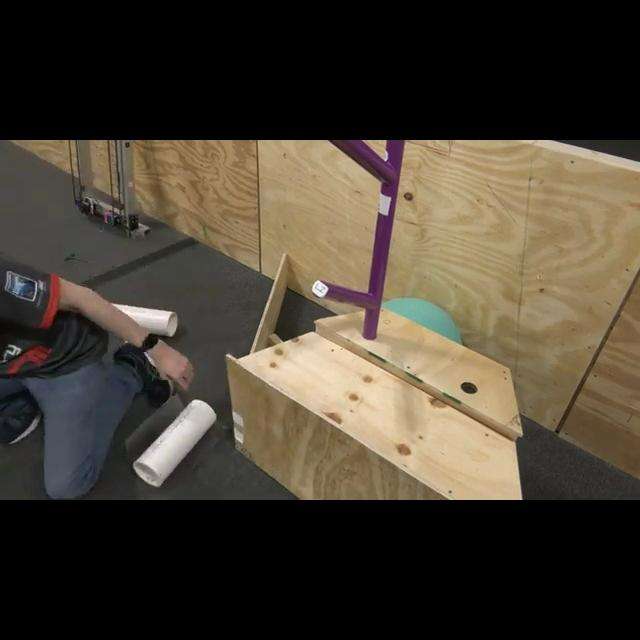CORAL: (131, 397, 217, 487), (109, 302, 180, 338)
